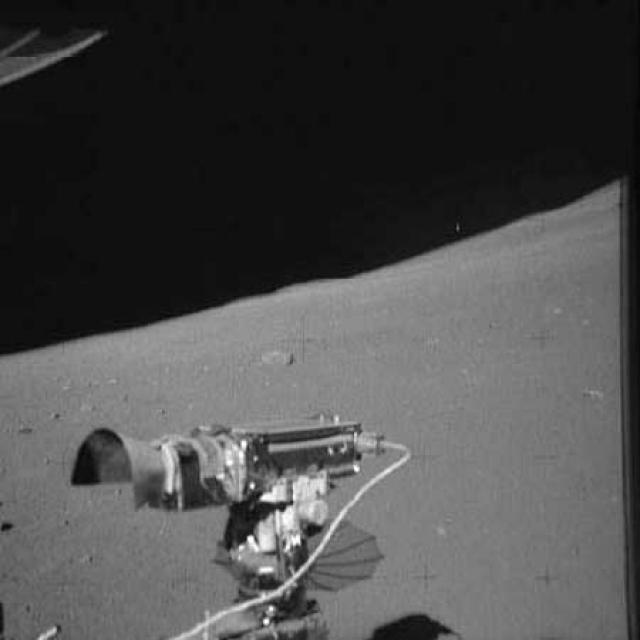rock: (249, 340, 303, 373), (1, 419, 38, 441), (74, 398, 98, 421), (46, 406, 64, 422)
